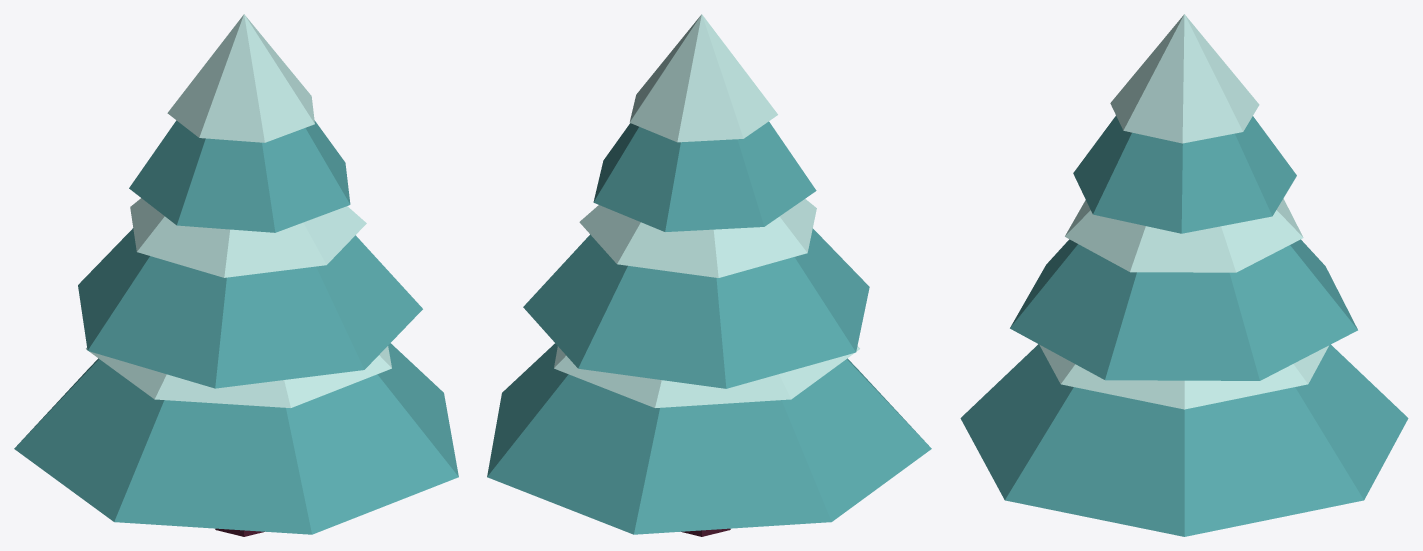
Rendered from pine.glb.
3 renders of one model, left to right at view 1: azimuth 30°, elevation 25°; view 2: azimuth 150°, elevation 25°; view 3: azimuth 270°, elevation 25°, orthographic.
Visible parts, largest first — view 1: Low, Mid, Tip, SnowTip, SnowMid, SnowLow; view 2: Low, Mid, Tip, SnowTip, SnowMid, SnowLow; view 3: Low, Mid, Tip, SnowTip, SnowMid, SnowLow.
Part boxes in pixels (<box>): Low: <box>14,343,458,534</box>; Mid: <box>78,228,422,388</box>; Tip: <box>129,120,350,232</box>; SnowTip: <box>167,14,314,142</box>; SnowMid: <box>130,198,366,277</box>; SnowLow: <box>86,346,391,407</box>; Low: <box>487,343,931,534</box>; Mid: <box>523,228,869,388</box>; Tip: <box>593,121,816,231</box>; SnowTip: <box>629,14,777,142</box>; SnowMid: <box>579,199,816,277</box>; SnowLow: <box>554,346,859,407</box>; Low: <box>960,344,1408,536</box>; Mid: <box>1010,239,1357,380</box>; Tip: <box>1073,116,1296,233</box>; SnowTip: <box>1110,14,1259,143</box>; SnowMid: <box>1065,198,1303,272</box>; SnowLow: <box>1039,344,1328,409</box>.
Bounding box in the file's own units: 1.71 × 2.19 × 1.75.
